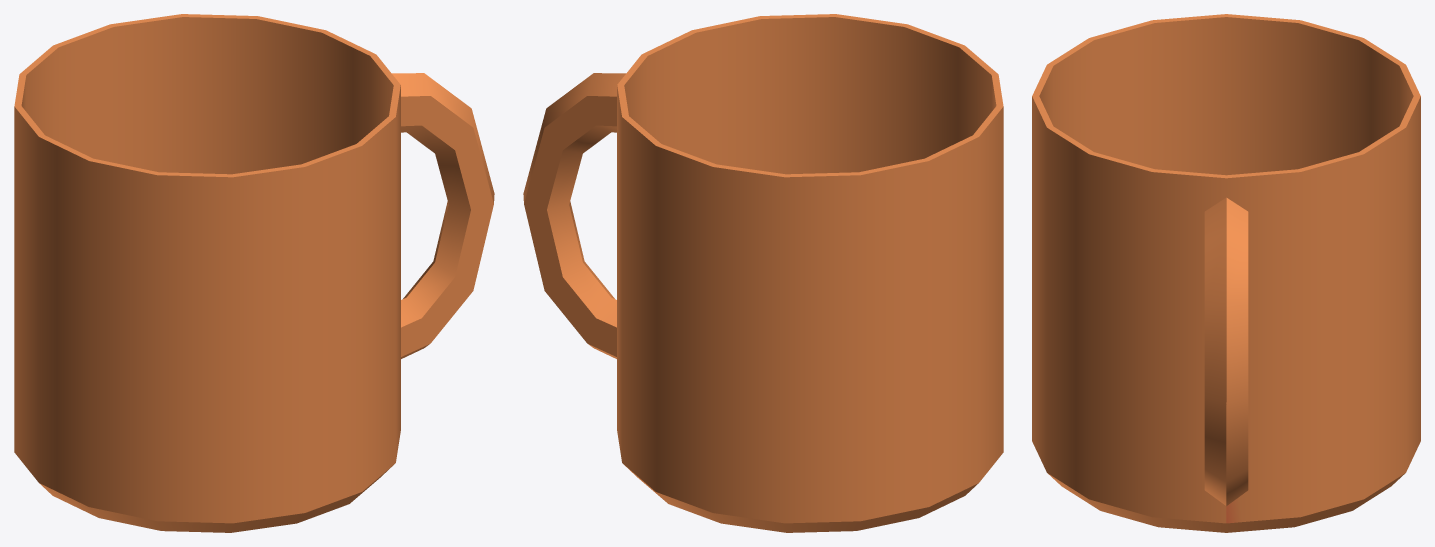
Rendered from Taza03.fbx.
The picture shows the model from 3 angles, left to right: view 1: azimuth 30°, elevation 25°; view 2: azimuth 150°, elevation 25°; view 3: azimuth 270°, elevation 25°; orthographic projection.
Visible parts, largest first — view 1: Taza03; view 2: Taza03; view 3: Taza03.
Part boxes in pixels (box(x1,y1,x2,y2)): Taza03: box(14, 14, 494, 532); Taza03: box(523, 14, 1003, 532); Taza03: box(1032, 14, 1420, 532).
Bounding box in the file's own units: 0.1046 × 0.0795 × 0.0775.
